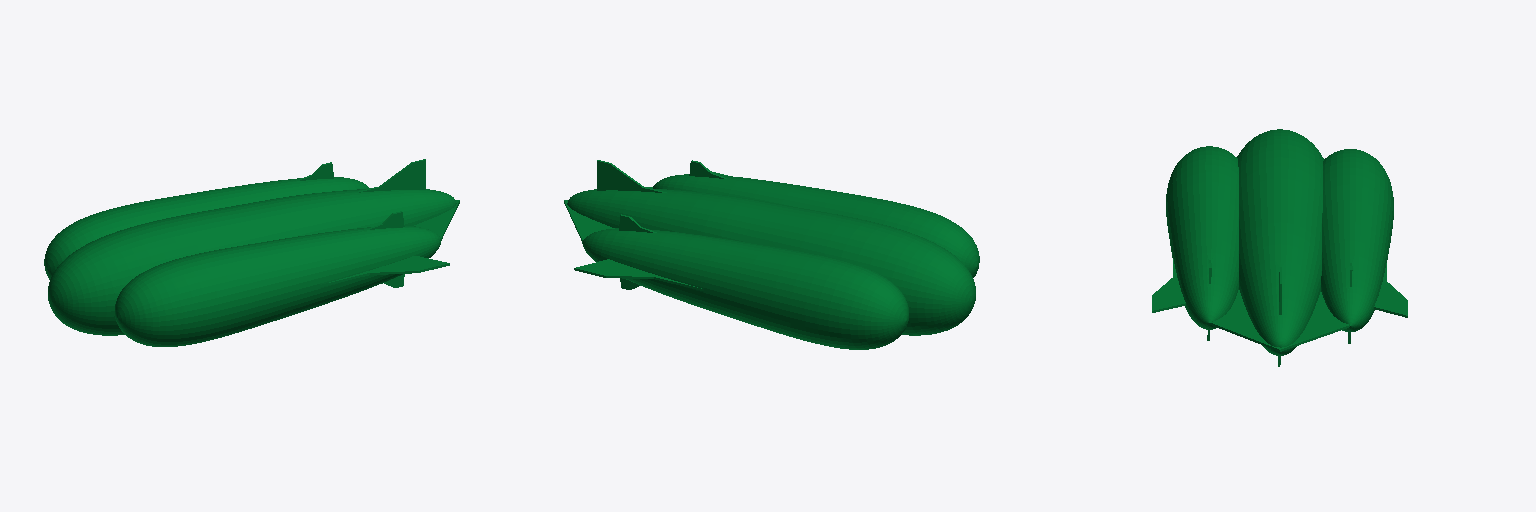
File: feitingObj.obj
3 renders of one model, left to right at view 1: azimuth 30°, elevation 25°; view 2: azimuth 150°, elevation 25°; view 3: azimuth 270°, elevation 25°, orthographic.
Parts seen in each view (by area): view 1: D_Object polySurface2 transform1 polySurface1; view 2: D_Object polySurface2 transform1 polySurface1; view 3: D_Object polySurface2 transform1 polySurface1.
Boxes of the visible parts, x1=… form: D_Object polySurface2 transform1 polySurface1: x1=44, y1=159, x2=459, y2=346; D_Object polySurface2 transform1 polySurface1: x1=564, y1=160, x2=979, y2=349; D_Object polySurface2 transform1 polySurface1: x1=1152, y1=129, x2=1407, y2=366.
Bounding box in the file's own units: 4.08 × 1.05 × 2.23.